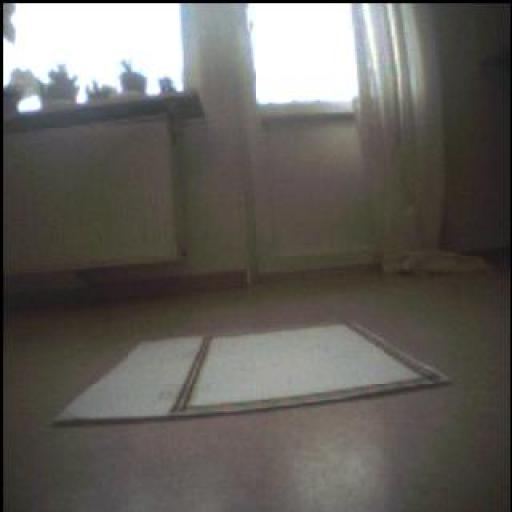Pad: (54, 322, 445, 422)
